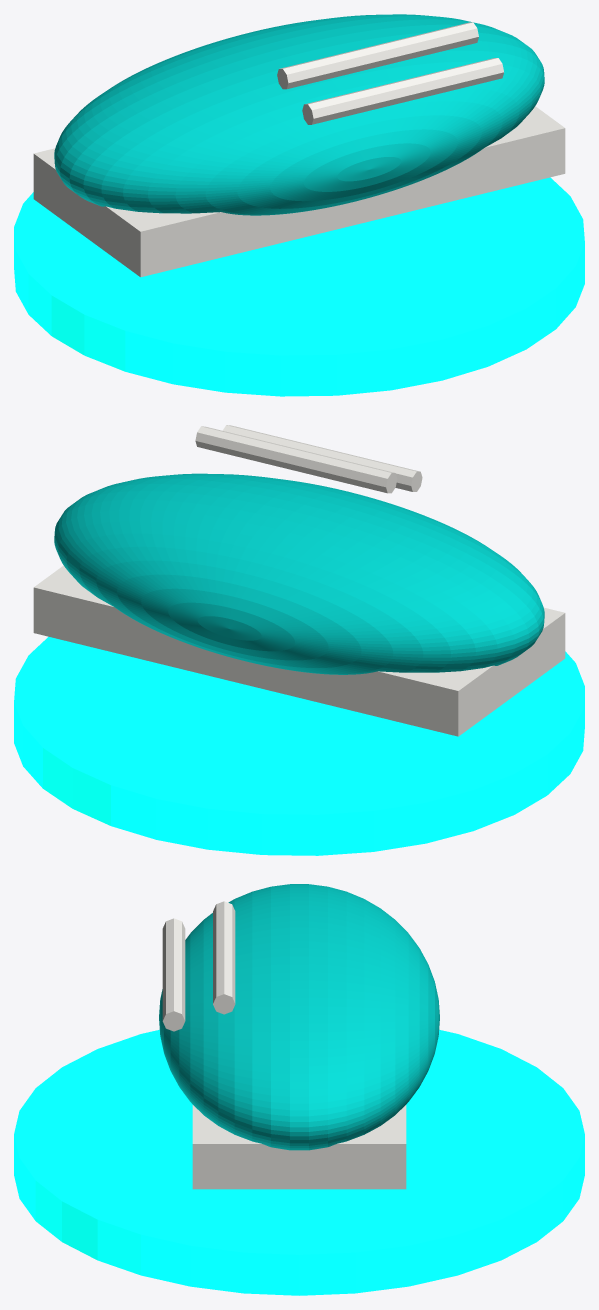
Rendered from fashion_sneaker.glb.
3 views of the same model, one above another, from view 1: azimuth 30°, elevation 25°; view 2: azimuth 150°, elevation 25°; view 3: azimuth 270°, elevation 25° (orthographic).
Parts seen in each view (by area): view 1: 06_03_Popular_Fashion_Sneaker_ROOT_base, 06_03_Popular_Fashion_Sneaker_part_01, 06_03_Popular_Fashion_Sneaker_part_02, 06_03_Popular_Fashion_Sneaker_part_04, 06_03_Popular_Fashion_Sneaker_part_03; view 2: 06_03_Popular_Fashion_Sneaker_ROOT_base, 06_03_Popular_Fashion_Sneaker_part_01, 06_03_Popular_Fashion_Sneaker_part_02, 06_03_Popular_Fashion_Sneaker_part_04, 06_03_Popular_Fashion_Sneaker_part_03; view 3: 06_03_Popular_Fashion_Sneaker_ROOT_base, 06_03_Popular_Fashion_Sneaker_part_01, 06_03_Popular_Fashion_Sneaker_part_02, 06_03_Popular_Fashion_Sneaker_part_03, 06_03_Popular_Fashion_Sneaker_part_04.
Boxes of the visible parts, x1,y1,x2,y2 form: 06_03_Popular_Fashion_Sneaker_ROOT_base: (14,177,584,396); 06_03_Popular_Fashion_Sneaker_part_01: (54,14,544,215); 06_03_Popular_Fashion_Sneaker_part_02: (33,106,565,277); 06_03_Popular_Fashion_Sneaker_part_04: (277,22,478,89); 06_03_Popular_Fashion_Sneaker_part_03: (302,58,503,124); 06_03_Popular_Fashion_Sneaker_ROOT_base: (14,636,584,855); 06_03_Popular_Fashion_Sneaker_part_01: (54,473,544,674); 06_03_Popular_Fashion_Sneaker_part_02: (33,565,565,736); 06_03_Popular_Fashion_Sneaker_part_04: (195,426,397,493); 06_03_Popular_Fashion_Sneaker_part_03: (222,425,422,491); 06_03_Popular_Fashion_Sneaker_ROOT_base: (14,1030,584,1295); 06_03_Popular_Fashion_Sneaker_part_01: (159,884,439,1150); 06_03_Popular_Fashion_Sneaker_part_02: (192,1105,406,1189); 06_03_Popular_Fashion_Sneaker_part_03: (162,918,185,1031); 06_03_Popular_Fashion_Sneaker_part_04: (213,901,235,1014).
Size of the model in its own units: 0.76 by 0.3633 by 0.76.
